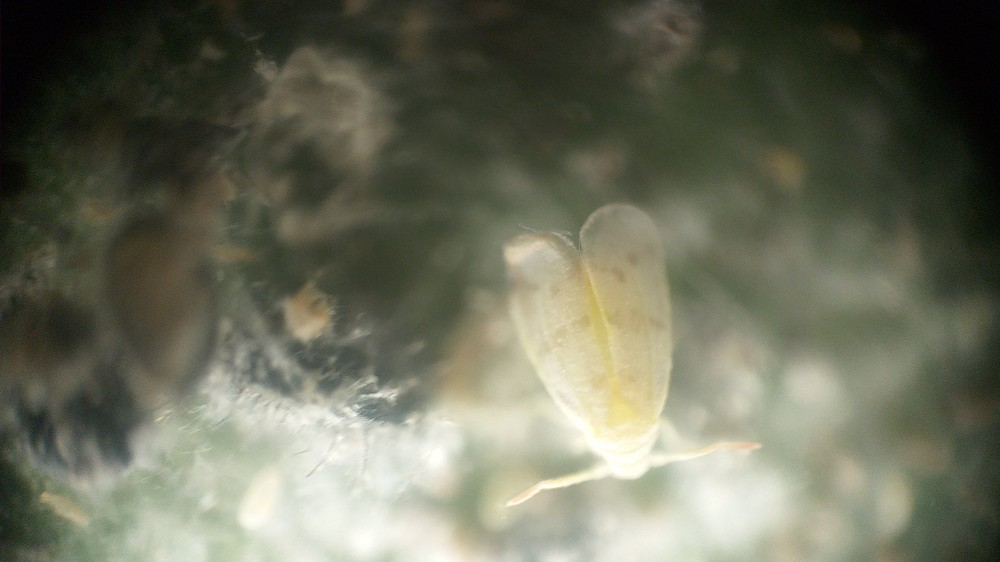Mosca Blanca: (454, 196, 788, 539)
